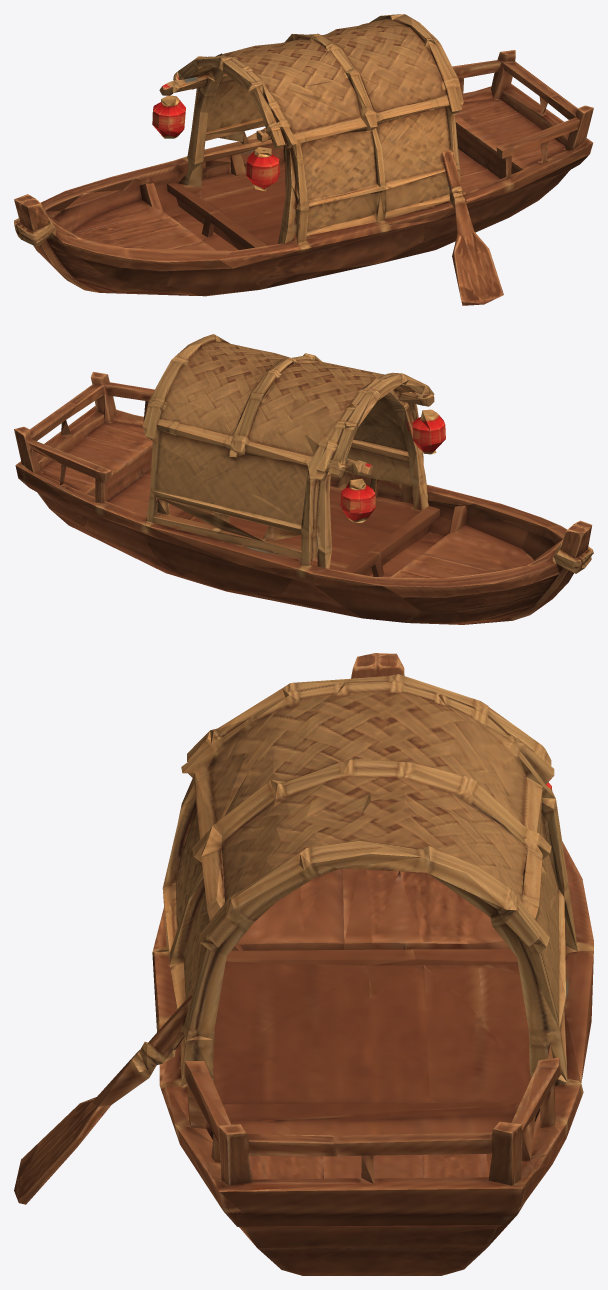
File: boat.glb
The picture shows the model from 3 angles, top to bottom: view 1: azimuth 30°, elevation 25°; view 2: azimuth 150°, elevation 25°; view 3: azimuth 270°, elevation 25°; orthographic projection. The views are drawn at different scales.
Visible parts, largest first — view 1: output_unwrapped; view 2: output_unwrapped; view 3: output_unwrapped.
Part boxes in pixels (left/top/right/bottom): output_unwrapped: left=14, top=14, right=593, bottom=305; output_unwrapped: left=14, top=334, right=593, bottom=624; output_unwrapped: left=14, top=653, right=593, bottom=1275.
Size of the model in its own units: 1.9 by 0.7057 by 0.9825.
Materials: 1 (1 with a texture image).
